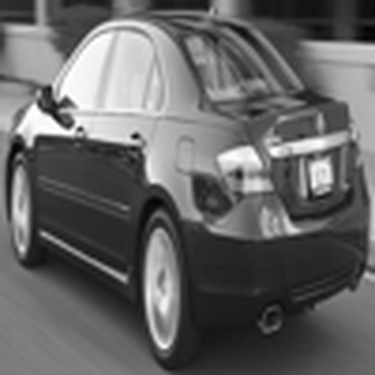car: (6, 5, 371, 371)
